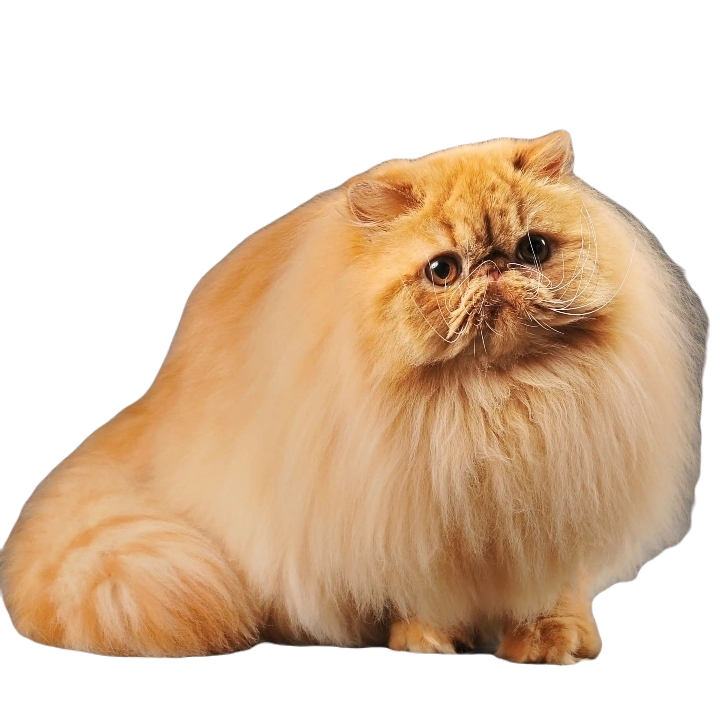Cat: (0, 127, 713, 672)
